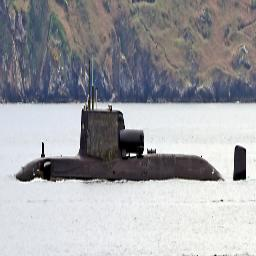submarine: (16, 100, 248, 182)
